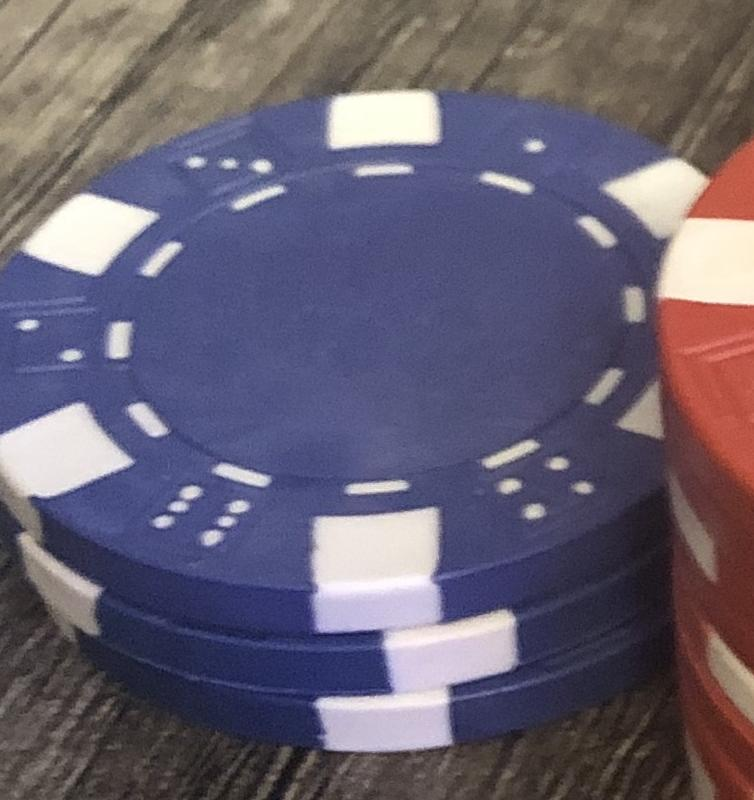Chip: (1, 1, 754, 800)
